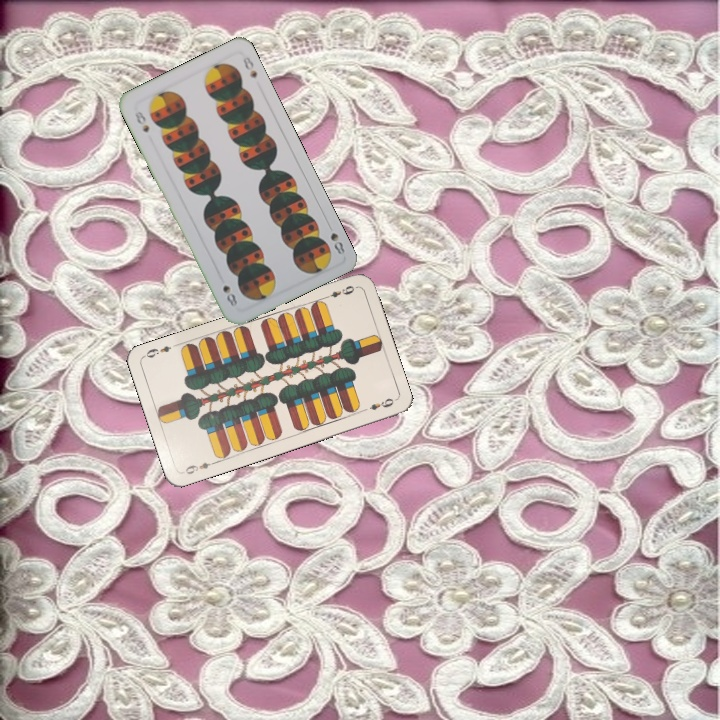E9: (179, 457, 219, 477), (320, 281, 357, 301)
S8: (323, 219, 347, 258), (131, 107, 152, 135)
